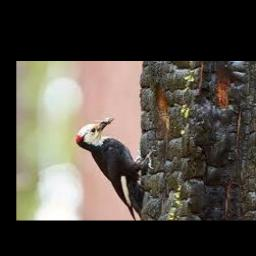Woodpecker: (78, 115, 156, 220)
